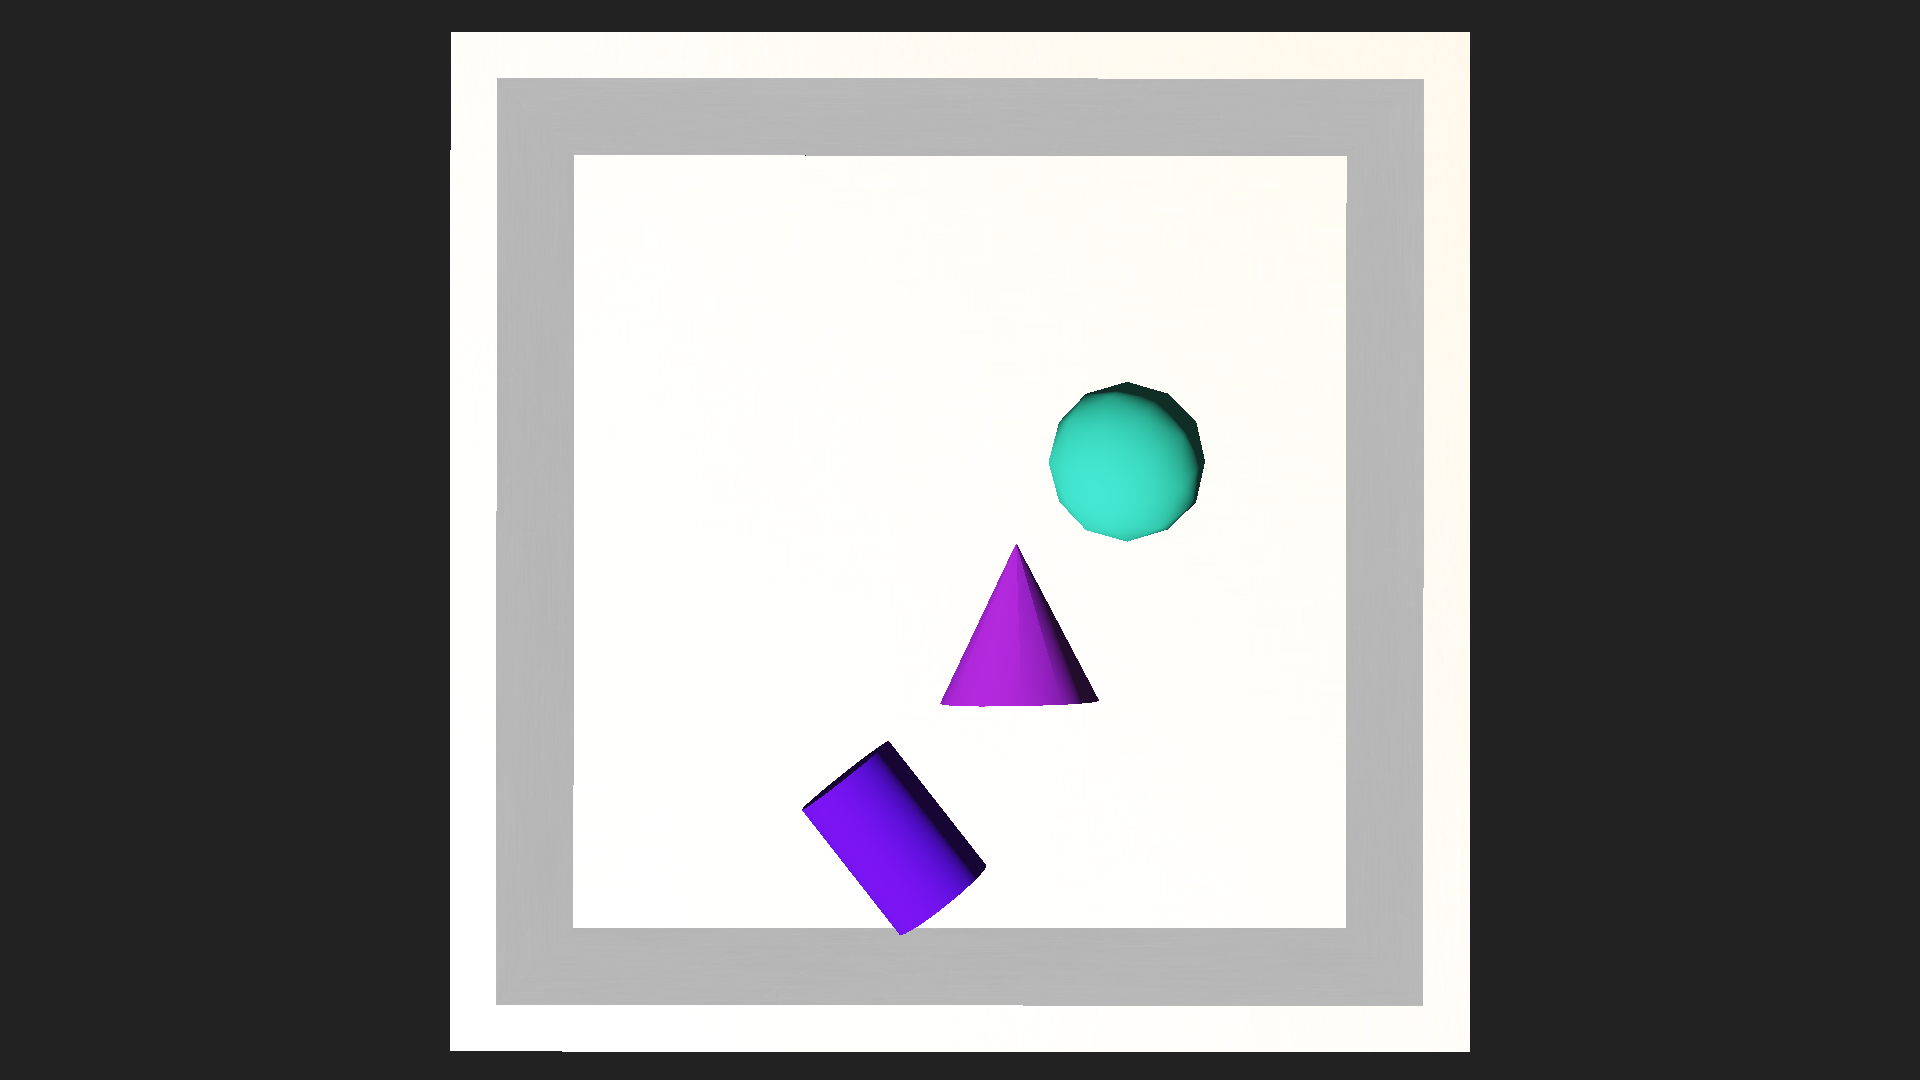cone: (798, 736, 986, 943)
cylinder: (943, 539, 1095, 711)
sphere: (1046, 381, 1207, 541)
